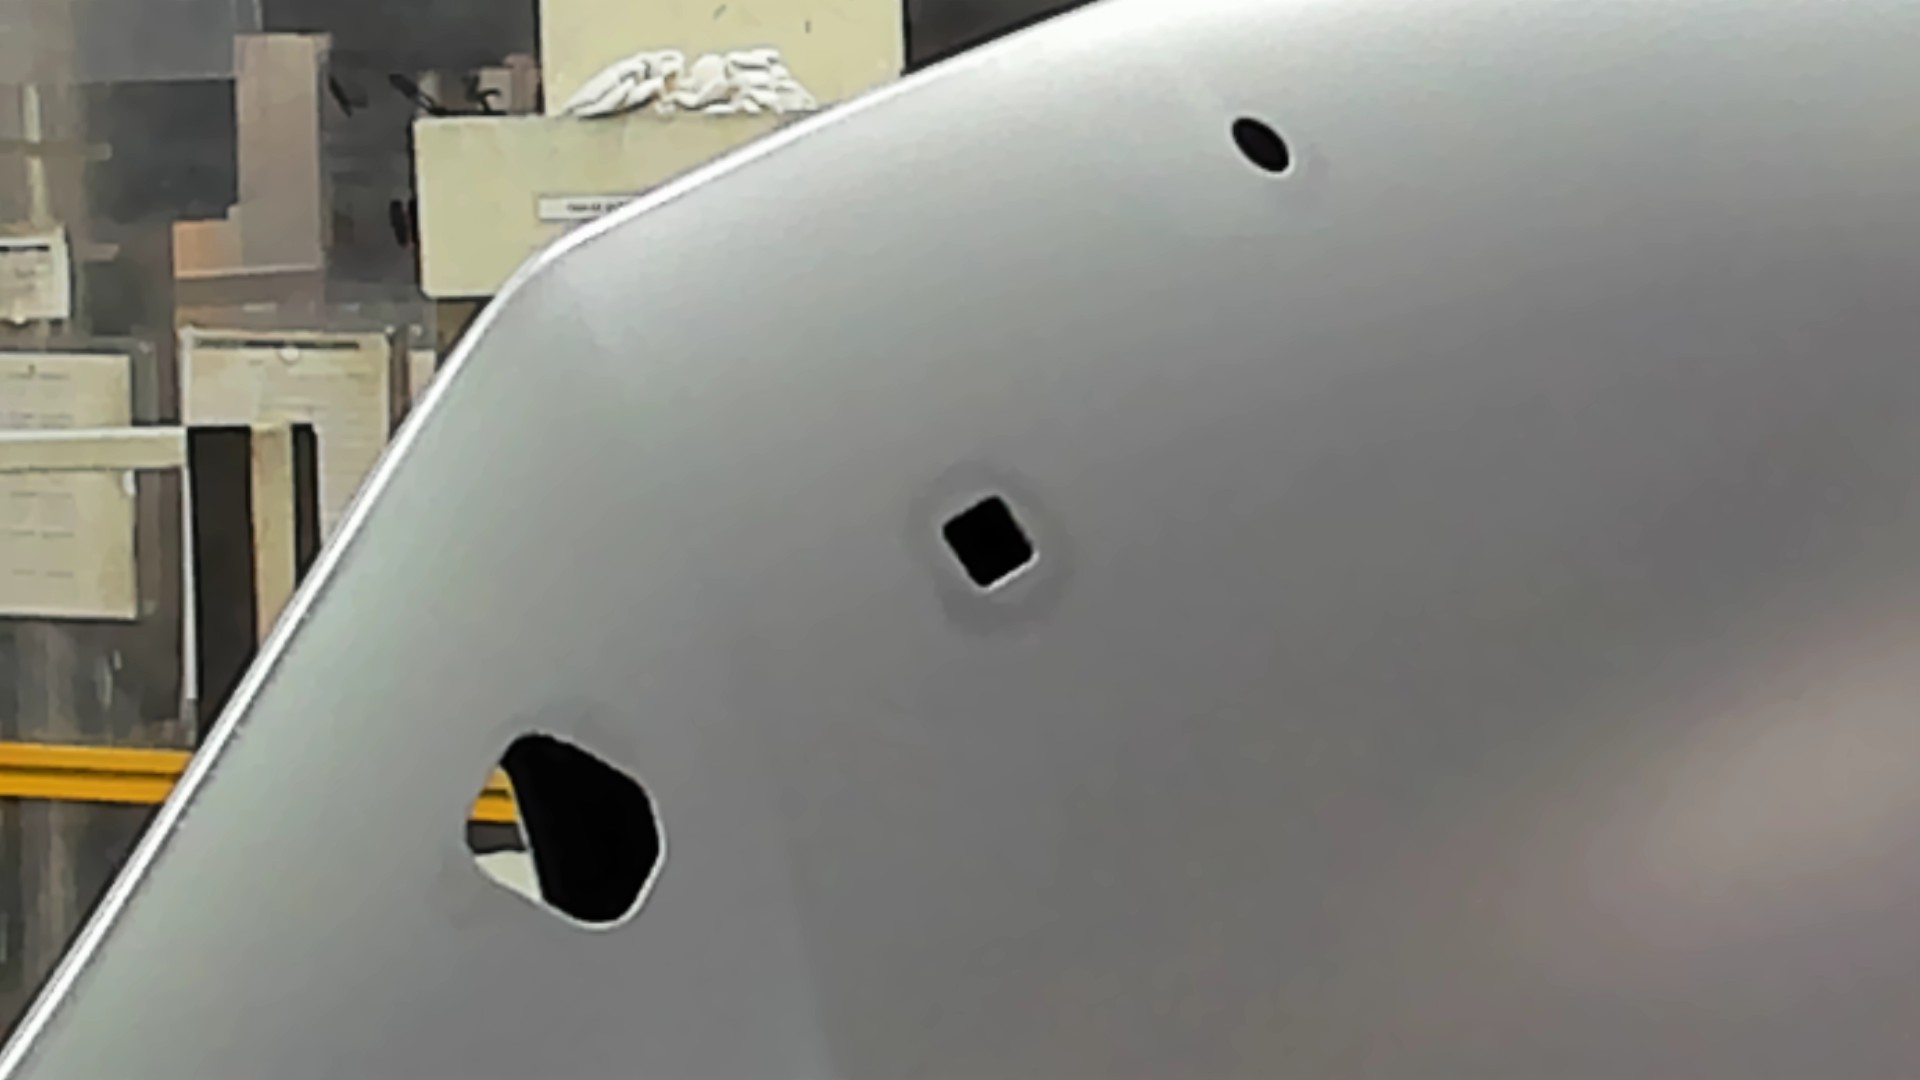capo: (1043, 191, 1920, 1080)
chico: (1226, 109, 1295, 182)
grande: (454, 727, 673, 942)
mediano: (934, 485, 1039, 599)
